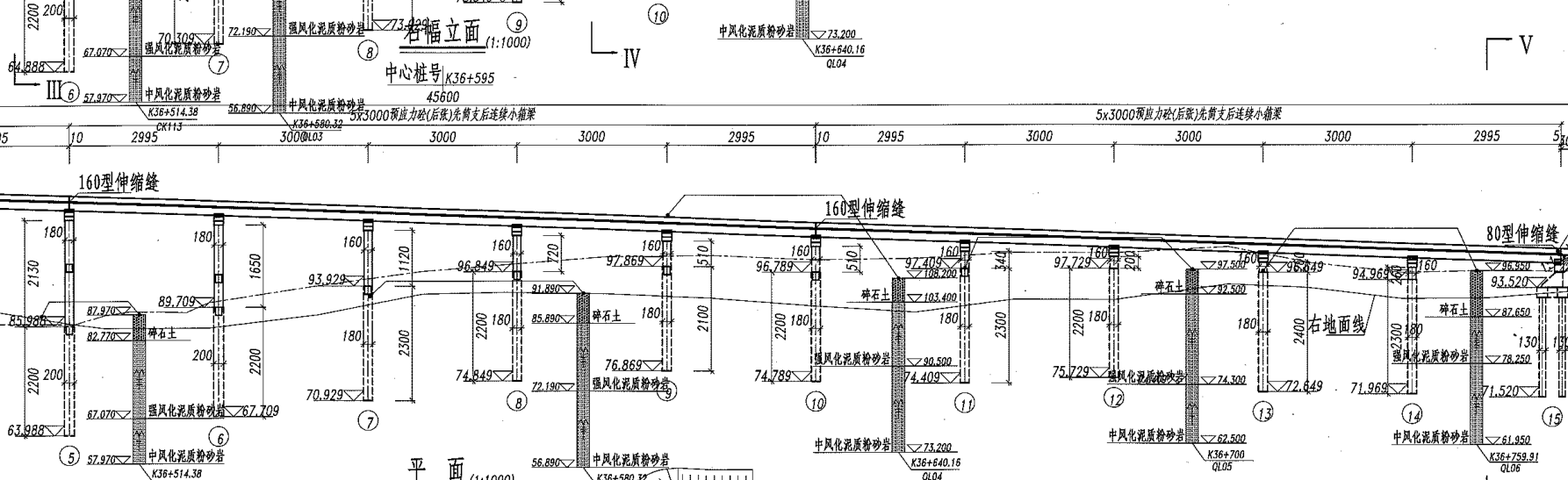B: (43, 99, 841, 135), (780, 100, 1558, 135)
C: (1, 204, 90, 471), (151, 208, 240, 451), (298, 212, 387, 436), (449, 218, 534, 414), (1244, 247, 1334, 426), (746, 230, 832, 415), (1347, 250, 1435, 428), (601, 223, 685, 406), (1044, 240, 1131, 413), (1480, 274, 1568, 433), (911, 236, 982, 416), (11, 1, 86, 104), (158, 1, 234, 79), (306, 1, 383, 67), (456, 1, 535, 38)
